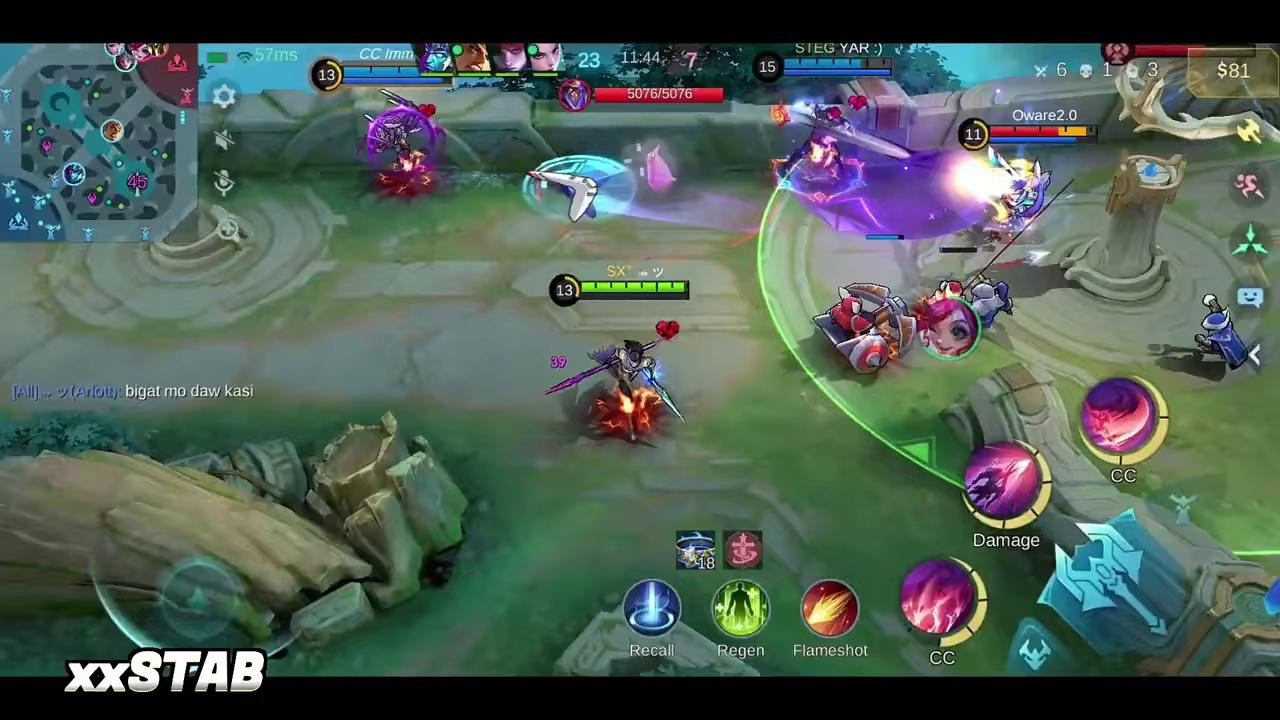hp_enemy: (992, 126, 1094, 135)
hp_self: (581, 282, 686, 292)
minion_ally: (815, 282, 918, 370)
minion_enemy: (917, 271, 1015, 350), (1192, 298, 1257, 375)
turret_enemy: (1103, 57, 1277, 295)
